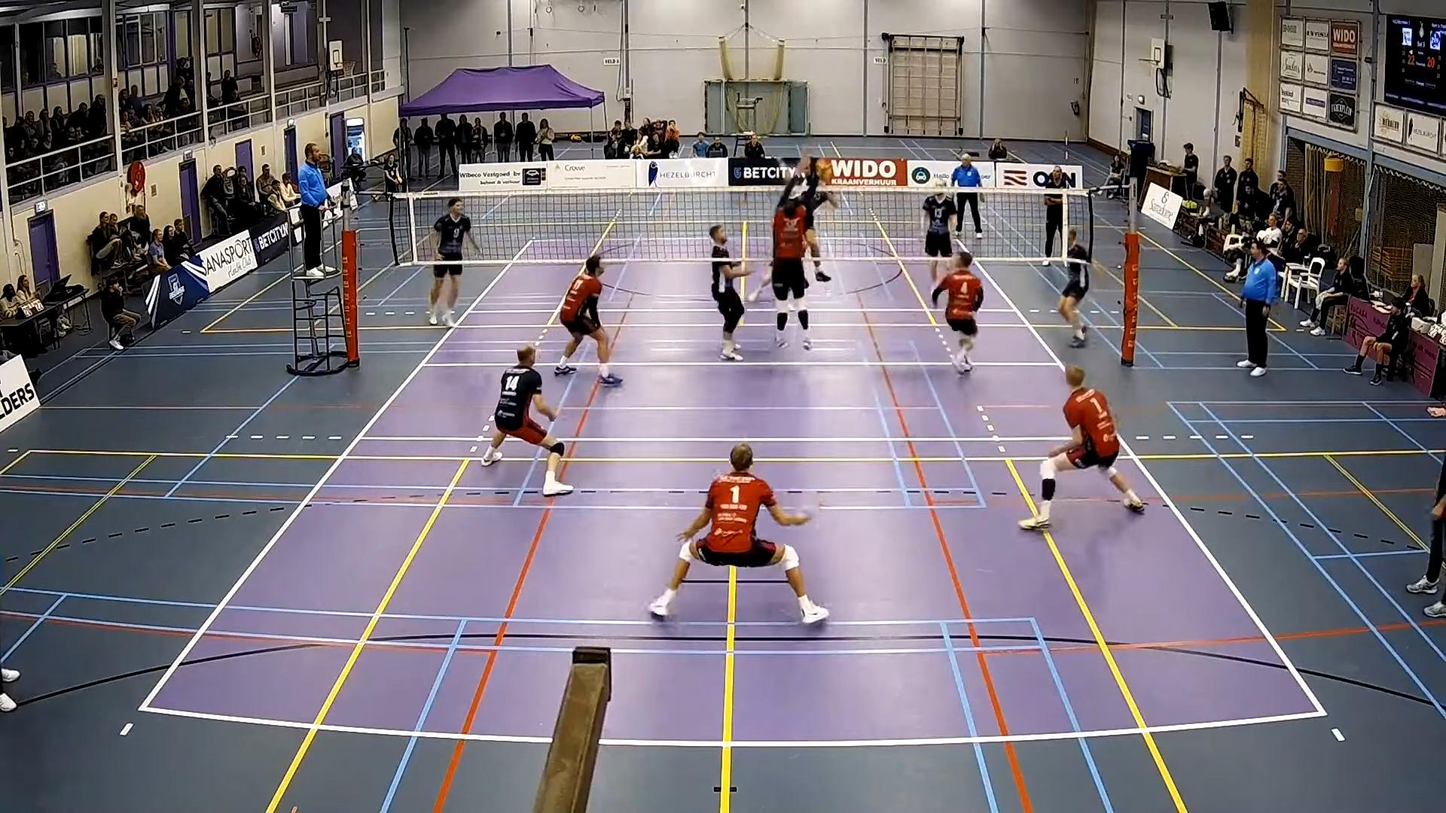attacco: (774, 158, 838, 291)
muro: (759, 168, 834, 349)
